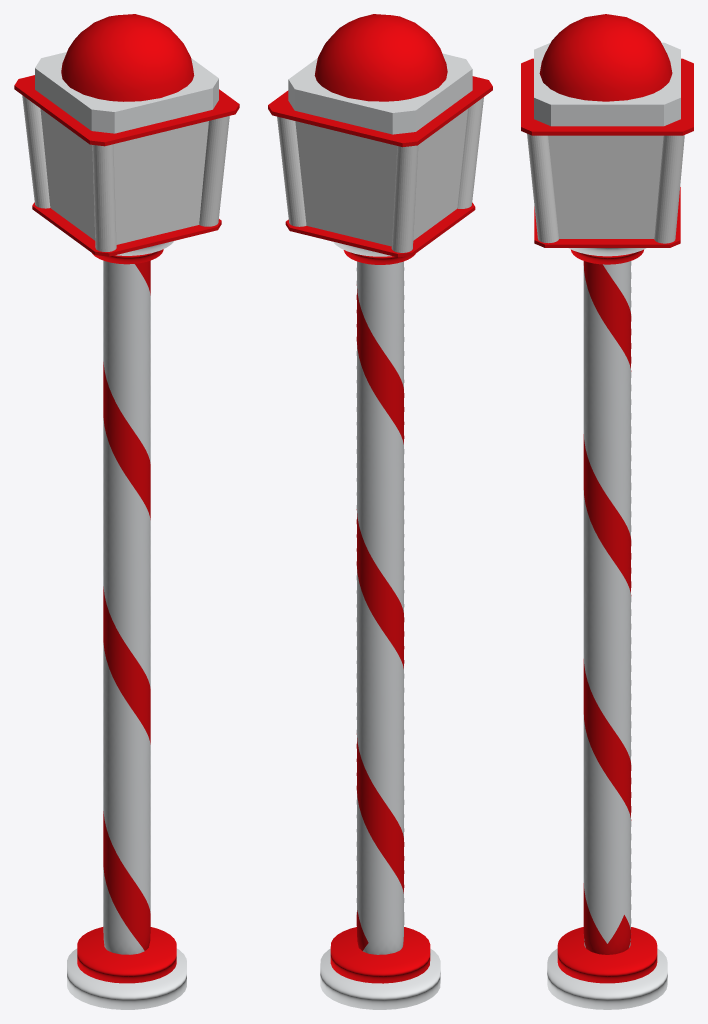
The model's file is Lampadaire 1.fbx.
3 renders of one model, left to right at view 1: azimuth 30°, elevation 25°; view 2: azimuth 150°, elevation 25°; view 3: azimuth 270°, elevation 25°, orthographic.
Visible parts, largest first — view 1: Cylinder.002, Cube.009, Cube.007, Cube.006, Cube.011, Cylinder, Cylinder.001, Cube.005, Cylinder.003, Cylinder.006, Cube, Cylinder.008; view 2: Cylinder.002, Cube.008, Cube.007, Cube.006, Cube.011, Cylinder, Cylinder.001, Cube.005, Cylinder.008, Cube, Cylinder.007, Cylinder.003; view 3: Cylinder.002, Cube.010, Cube.007, Cube.006, Cylinder, Cylinder.001, Cube.005, Cylinder.007, Cylinder.006, Cube, Cylinder.005, Cylinder.004.
Part boxes in pixels (x1,y1,x2,y2): Cylinder.002: (103,260,150,954); Cube.009: (113,121,208,244); Cube.007: (61,14,194,101); Cube.006: (35,52,218,133); Cube.011: (40,108,95,240); Cylinder: (77,927,176,983); Cylinder.001: (67,948,186,1009); Cube.005: (14,75,239,146); Cylinder.003: (92,144,116,251); Cylinder.006: (199,116,229,226); Cube: (32,202,221,256); Cylinder.008: (22,95,50,208); Cylinder.002: (356,261,404,954); Cube.008: (295,121,397,246); Cube.007: (314,14,447,101); Cube.006: (288,53,472,134); Cube.011: (413,109,467,240); Cylinder: (330,927,430,983); Cylinder.001: (320,948,440,1009); Cube.005: (268,76,492,147); Cylinder.008: (391,145,418,252); Cube: (285,202,475,257); Cylinder.007: (277,116,306,226); Cylinder.003: (457,97,483,208); Cylinder.002: (583,261,631,954); Cube.010: (548,135,663,238); Cube.007: (539,14,672,101); Cube.006: (534,42,680,126); Cylinder: (557,927,657,983); Cylinder.001: (547,948,667,1009); Cube.005: (521,58,693,135); Cylinder.007: (654,135,684,243); Cylinder.006: (527,133,558,243); Cube: (534,187,680,247); Cylinder.005: (571,249,643,264); Cylinder.004: (568,248,646,256).
Size of the model in its own units: 51.88 by 320 by 51.88.
